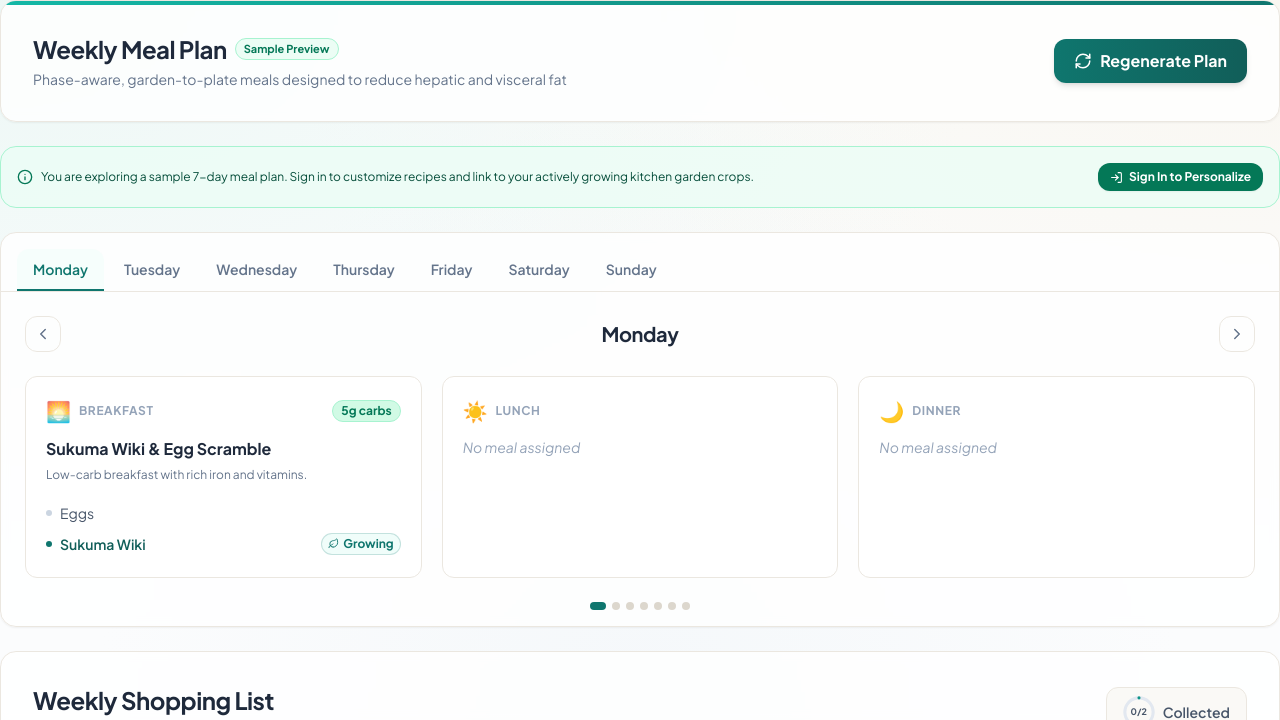
it: WeeklyMealPlan Component › regenerates the meal plan when clicking Regenerate Plan
Expected: the text "Sukuma Wiki & Egg Scramble" is shown, [46,438,271,459]
Click the button "Regenerate Plan" at (1151,61), box [1054,39,1247,83]
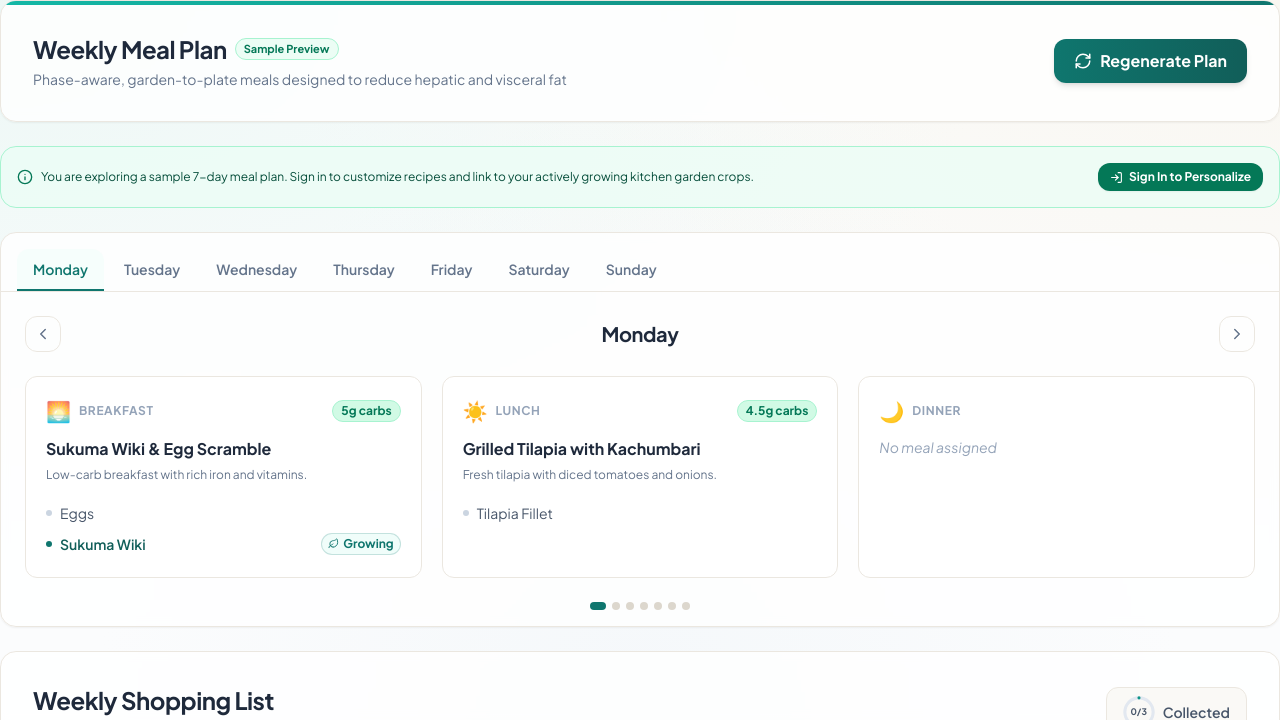
Expected: the text "Grilled Tilapia with Kachumbari" is shown, [463,438,701,459]
